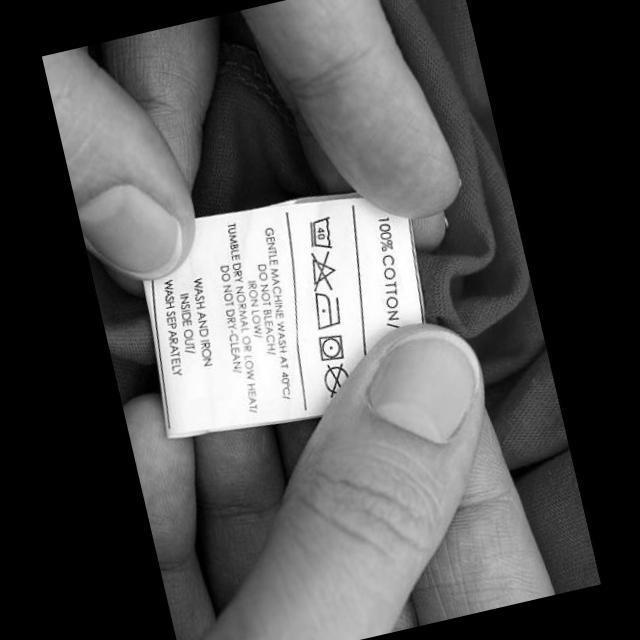40C: (302, 214, 337, 253)
DN_bleach: (303, 247, 342, 294)
DN_dry_clean: (318, 360, 354, 402)
iron_low: (308, 287, 344, 332)
tumble_dry_low: (314, 330, 348, 364)
